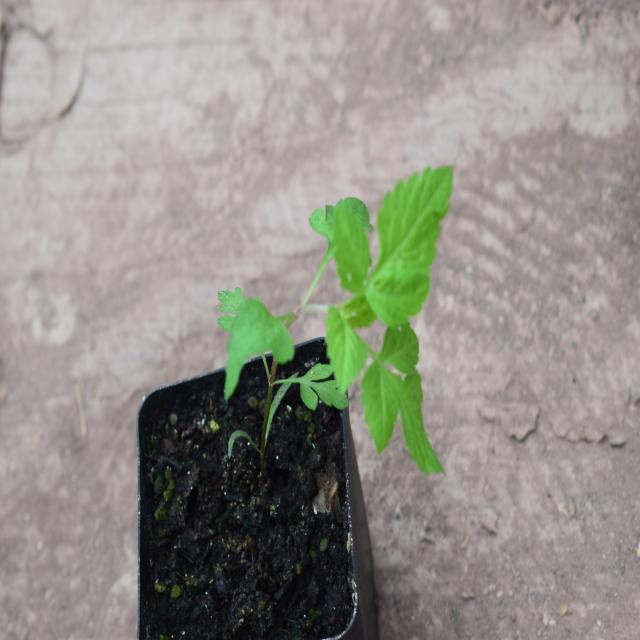Bidens pilosa: (208, 130, 455, 482)
